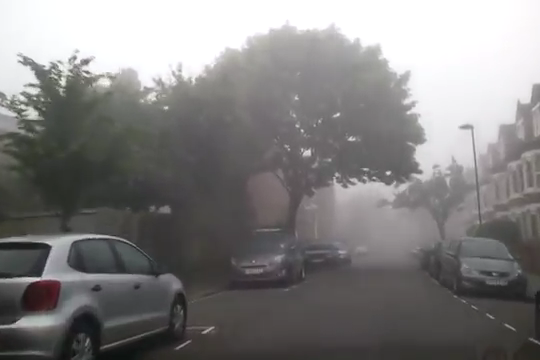car: (1, 232, 190, 360), (442, 235, 526, 299), (229, 228, 305, 288), (429, 237, 483, 283), (302, 240, 341, 271), (322, 241, 351, 263)
